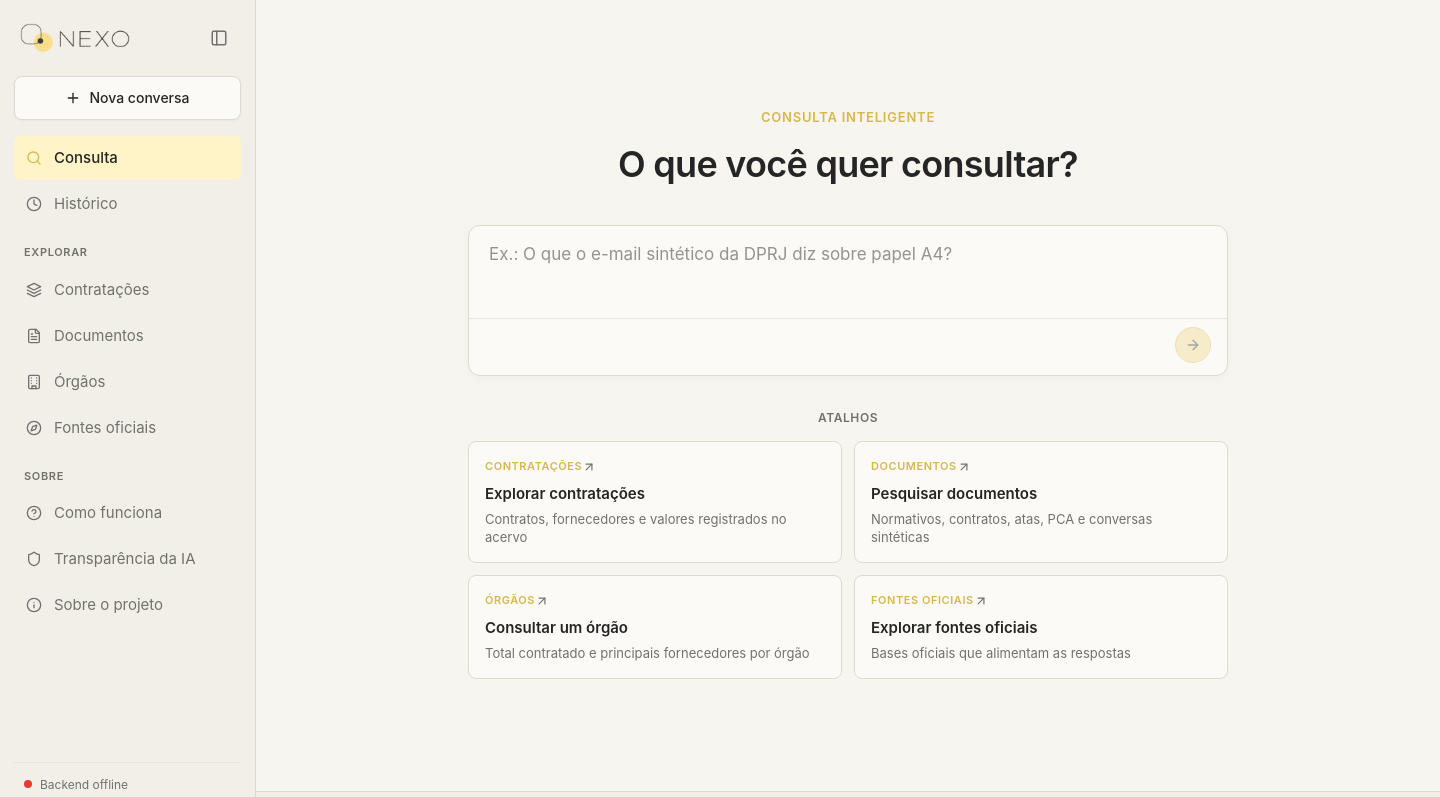
Test: App com backend desligado › a consulta mostra erro de conexão e nenhuma resposta
In the text box named "Pergunta sobre contratações públicas": [848, 272] box [489,242,1207,302], type "Quais contratos?"
Then press Enter
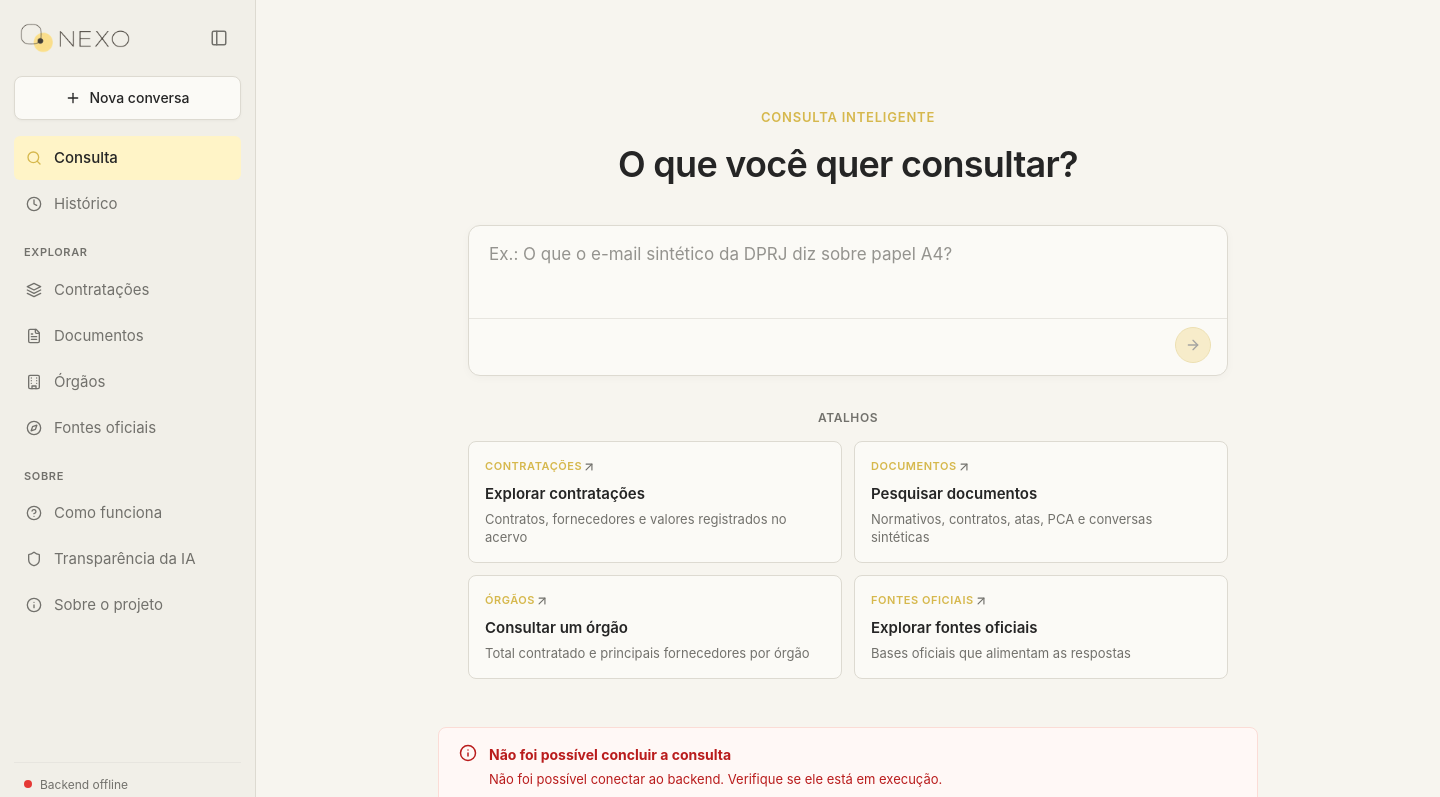
Expected: the text "Backend offline" is shown, [40,777,128,792]
Now the text "conectar ao backend" is shown, box [489,771,942,787]
